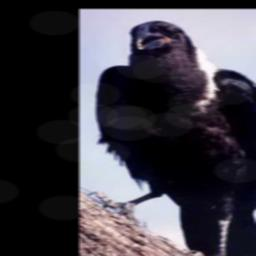Crow: (91, 18, 256, 256)
